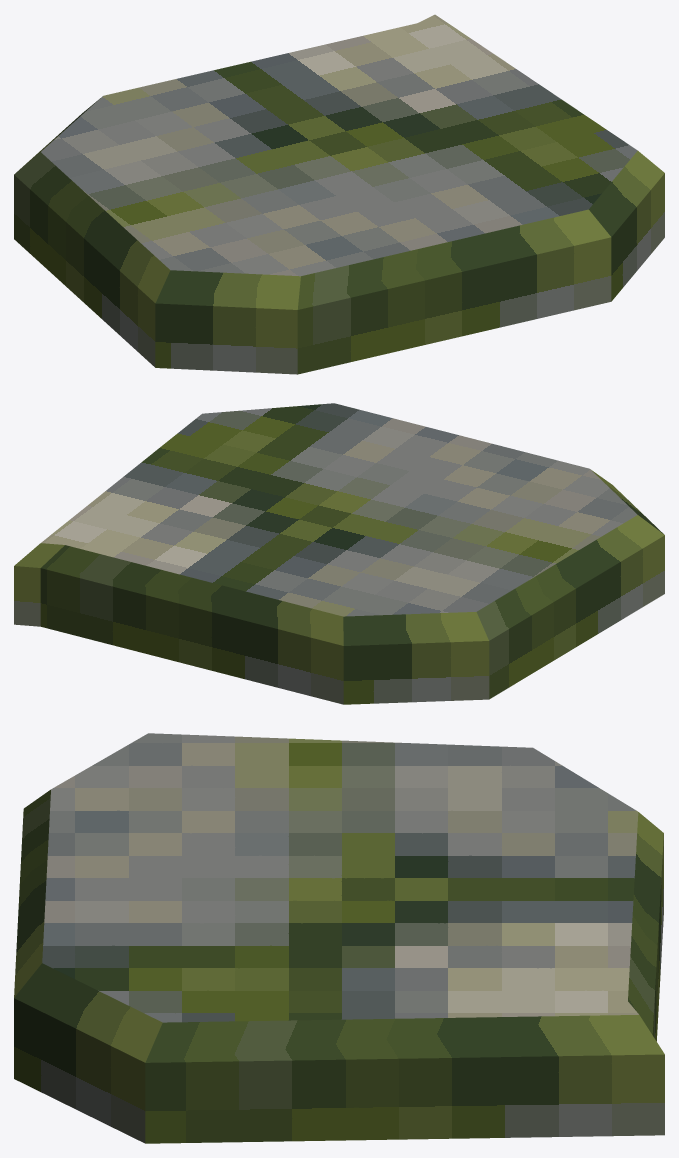
The model's file is PathStoneF.glb.
3 renders of one model, top to bottom at view 1: azimuth 30°, elevation 25°; view 2: azimuth 150°, elevation 25°; view 3: azimuth 270°, elevation 25°, orthographic. The views are drawn at different scales.
Visible parts, largest first — view 1: PathStoneF; view 2: PathStoneF; view 3: PathStoneF.
Boxes of the visible parts, x1,y1,x2,y2 form: PathStoneF: [14, 14, 664, 374]; PathStoneF: [14, 403, 664, 704]; PathStoneF: [14, 733, 664, 1143].
Size of the model in its own units: 0.4352 by 0.07 by 0.3796.
1 material, 1 textured.
